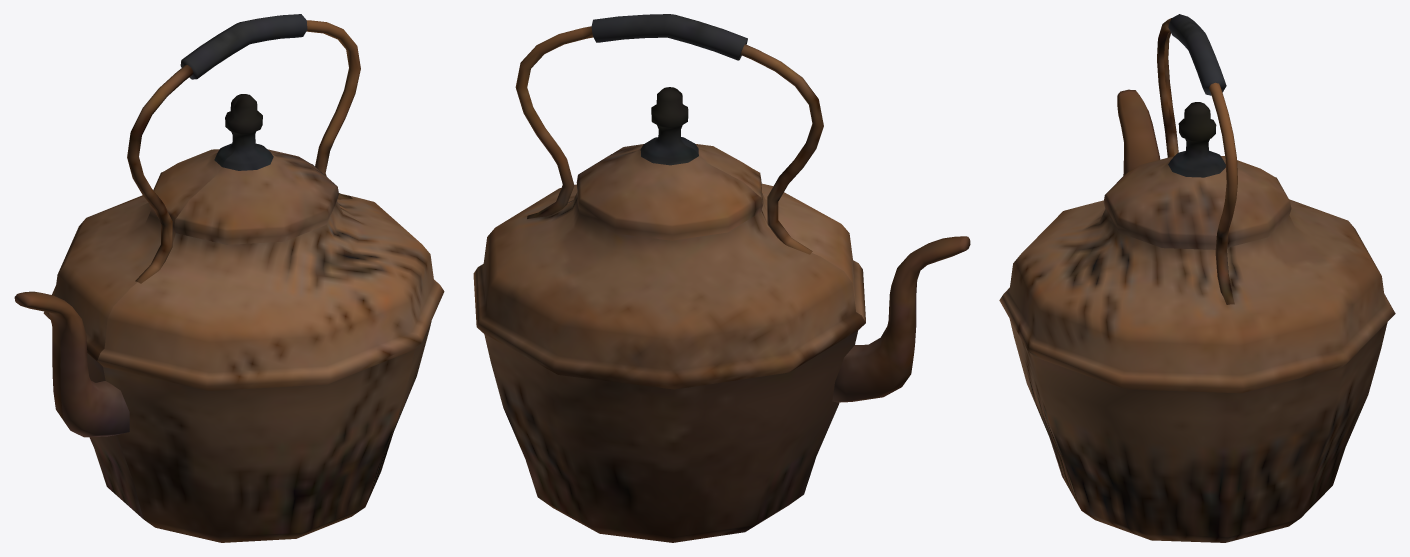
Rendered from teapot.fbx.
3 renders of one model, left to right at view 1: azimuth 30°, elevation 25°; view 2: azimuth 150°, elevation 25°; view 3: azimuth 270°, elevation 25°, orthographic. The views are drawn at different scales.
Visible parts, largest first — view 1: Strove.009; view 2: Strove.009; view 3: Strove.009.
Boxes of the visible parts, left/top/right/bottom form: Strove.009: left=14, top=14, right=444, bottom=542; Strove.009: left=473, top=14, right=970, bottom=542; Strove.009: left=999, top=14, right=1395, bottom=542.
Bounding box in the file's own units: 31.97 × 33.31 × 25.9.
1 material, 1 textured.
